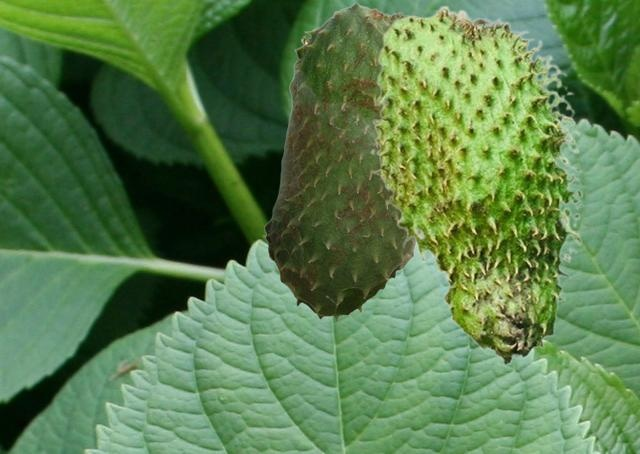guyabano: (369, 4, 585, 365), (262, 1, 415, 321)
